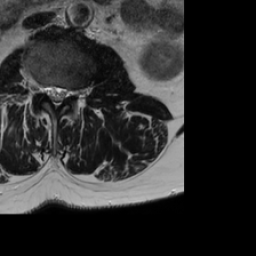CCS_normal: (52, 80, 59, 113)
LFS_stenosis: (66, 82, 75, 103)
LLS_normal: (59, 81, 66, 105)
RFS_normal: (36, 75, 44, 99)
RLS_normal: (44, 78, 52, 104)
